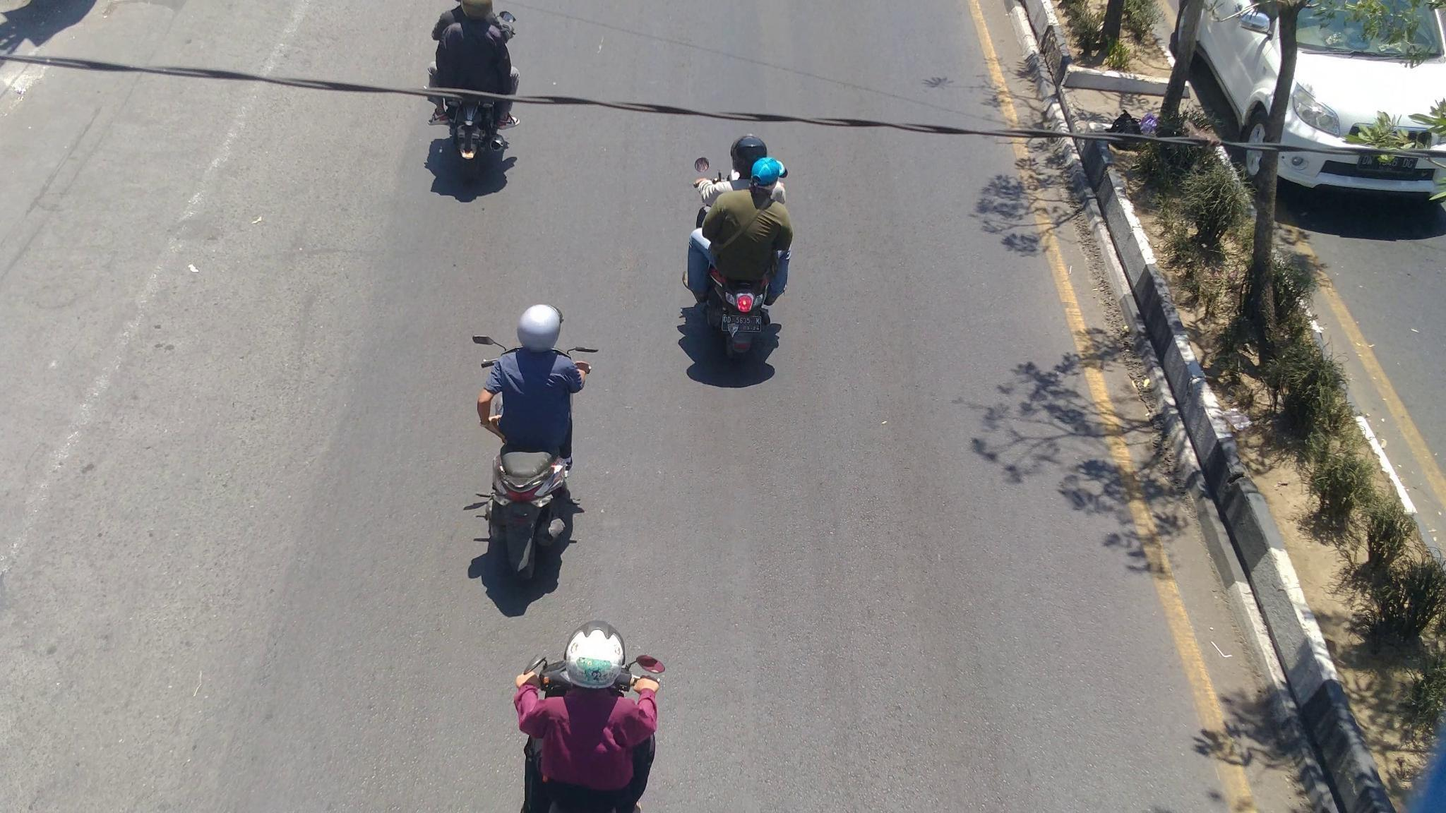Helmet: (552, 617, 634, 696), (509, 294, 577, 363), (725, 130, 770, 178)
bike: (472, 329, 597, 583), (690, 154, 789, 361), (427, 61, 525, 187)
no-helmet: (749, 154, 790, 196)
number-plate: (722, 310, 763, 335)
rider: (513, 619, 660, 791), (474, 297, 589, 471), (689, 151, 790, 304)
